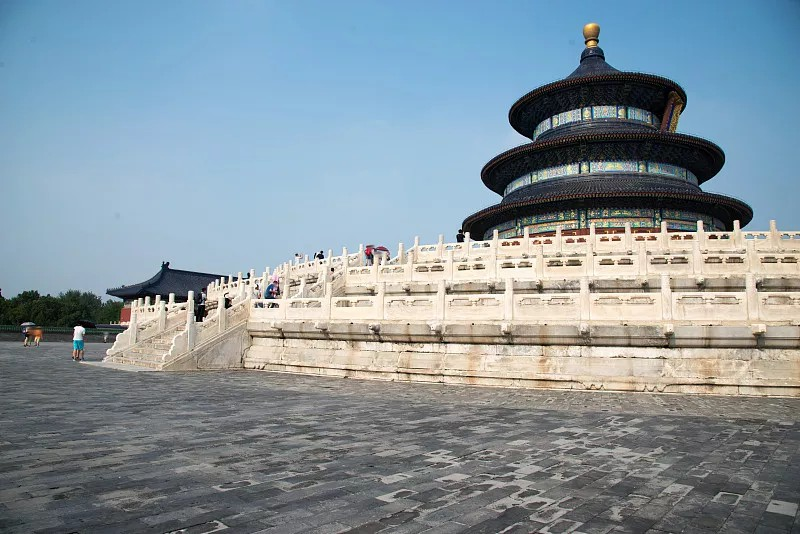Heaven: (460, 24, 754, 238)
